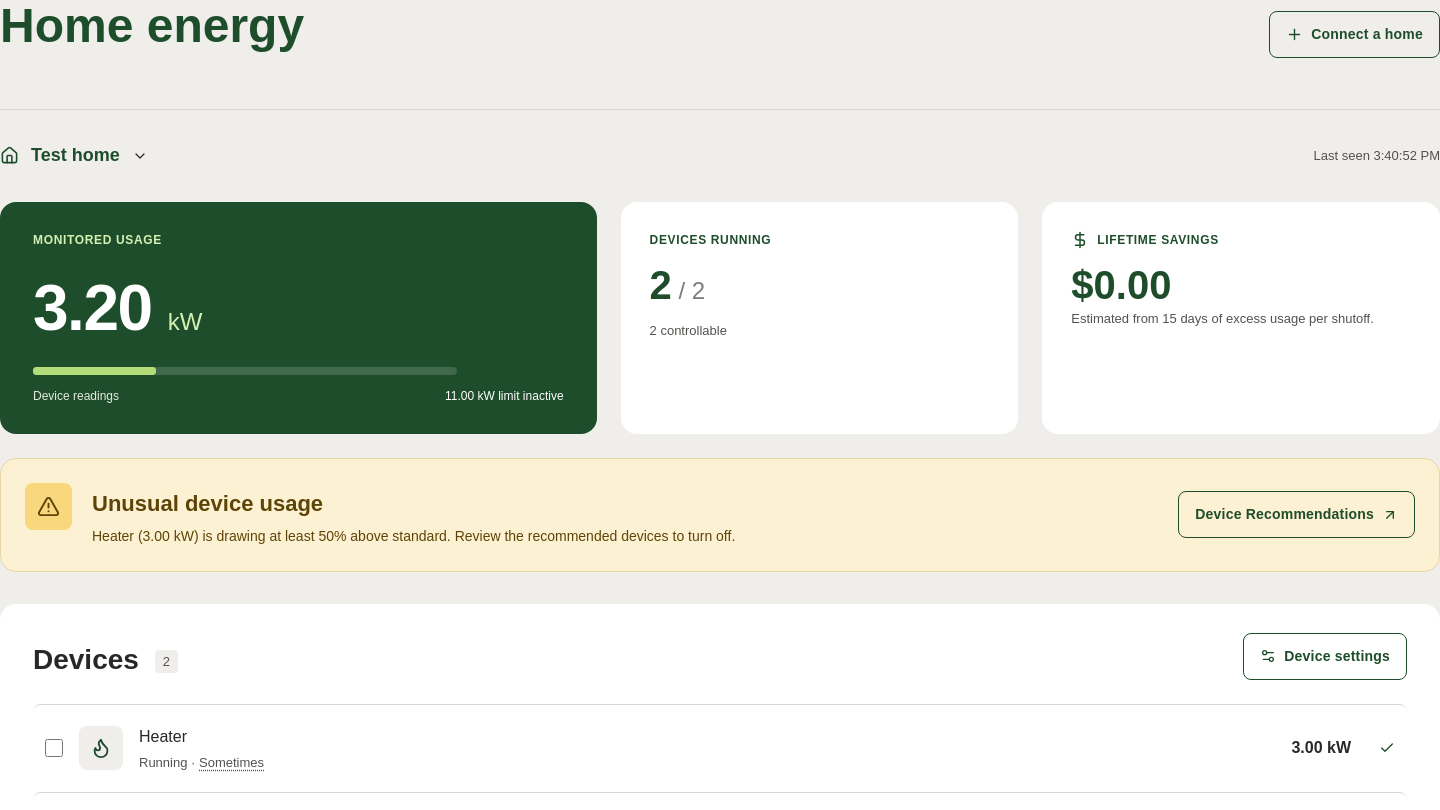
disables submission if readings normalize while recommendations are open
The width and height of the screenshot is (1440, 810).
Click the button "Device Recommendations": {"x": 1297, "y": 515} [1178, 491, 1415, 538]
Wait 3000 ms
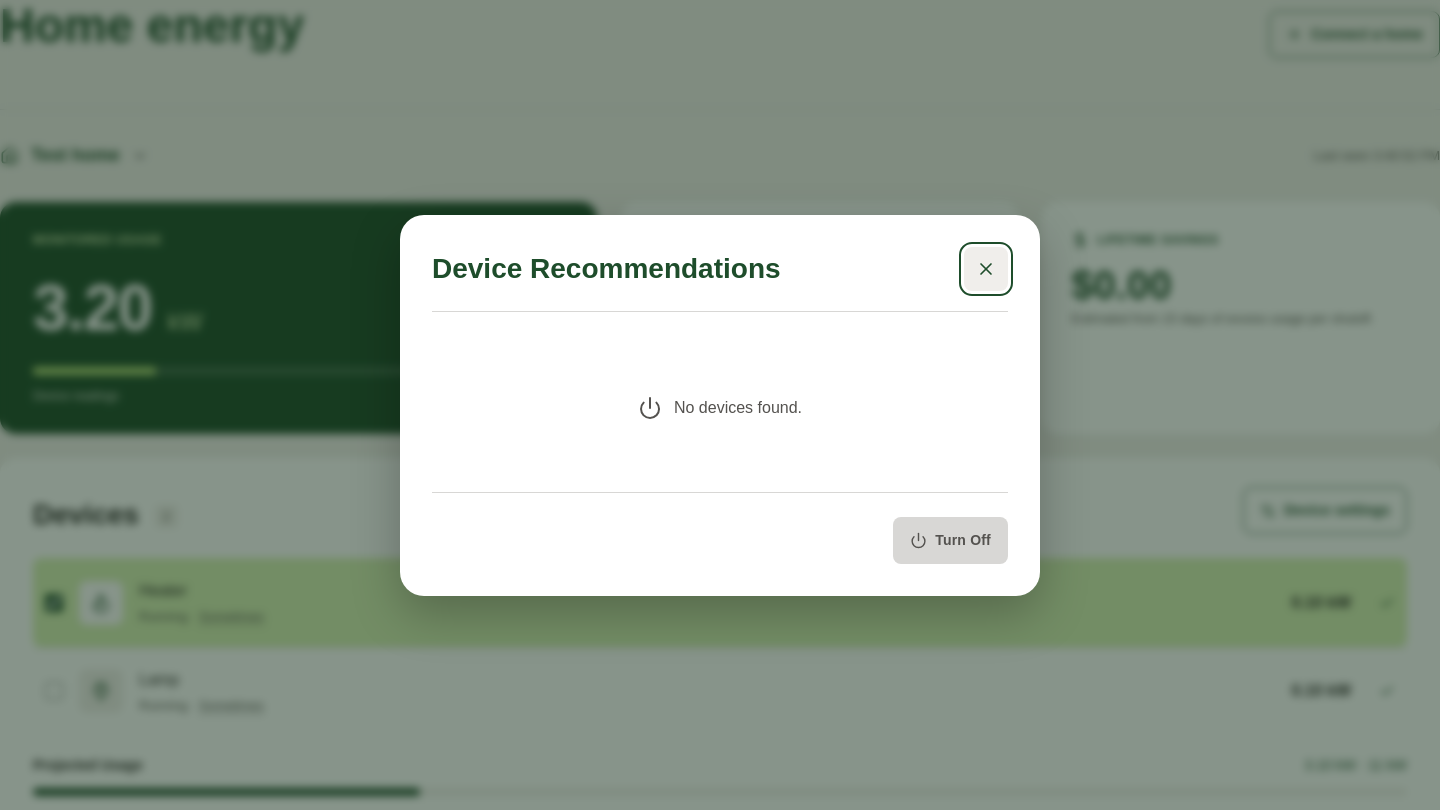
expect the button "Turn Off" is disabled: met, box [893, 516, 1008, 564]
